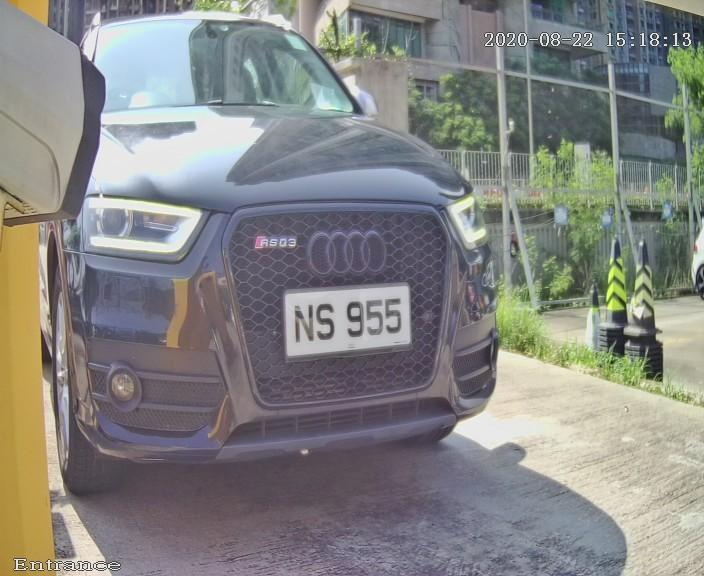Car: (19, 11, 538, 512)
License Plate: (274, 268, 419, 366)
